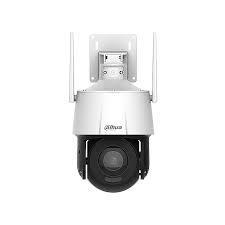maru: (72, 67, 164, 203)
